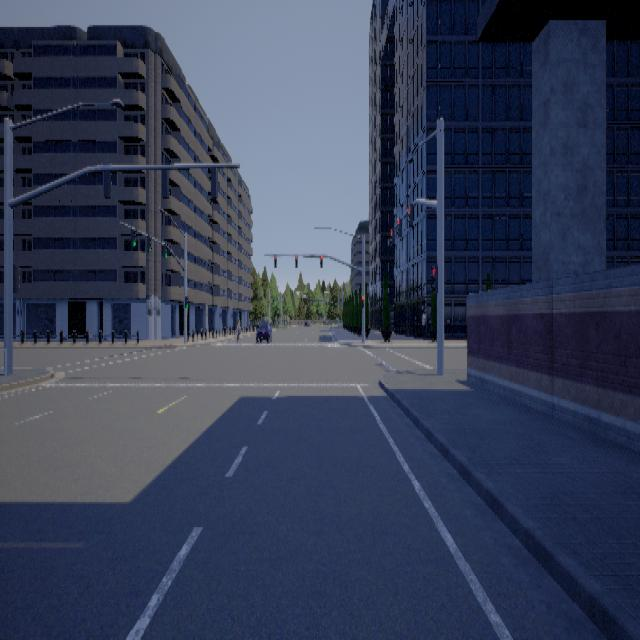green_light: (130, 230, 136, 247), (146, 234, 151, 251), (162, 243, 167, 256)
red_light: (430, 263, 437, 291), (406, 202, 412, 226), (396, 217, 401, 236), (389, 226, 394, 244), (320, 256, 323, 268), (295, 255, 298, 267), (362, 295, 364, 307), (274, 254, 276, 266)
vehicle: (253, 318, 272, 342)
